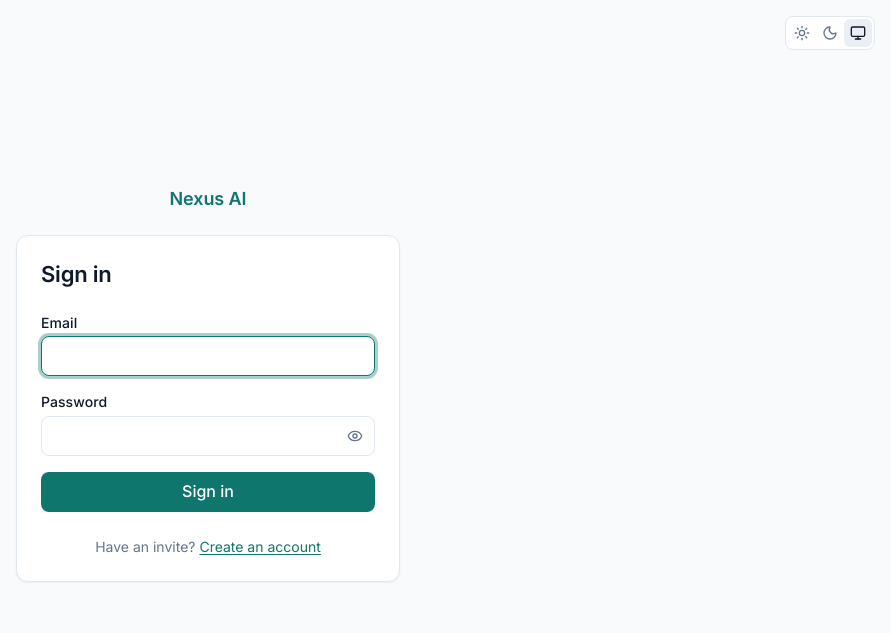
Test: login page › shows the error banner and lets the user retry
The width and height of the screenshot is (891, 633).
Type "marco@example.com" into the field labelled "Email" at (208, 356), box [41,336,375,376]
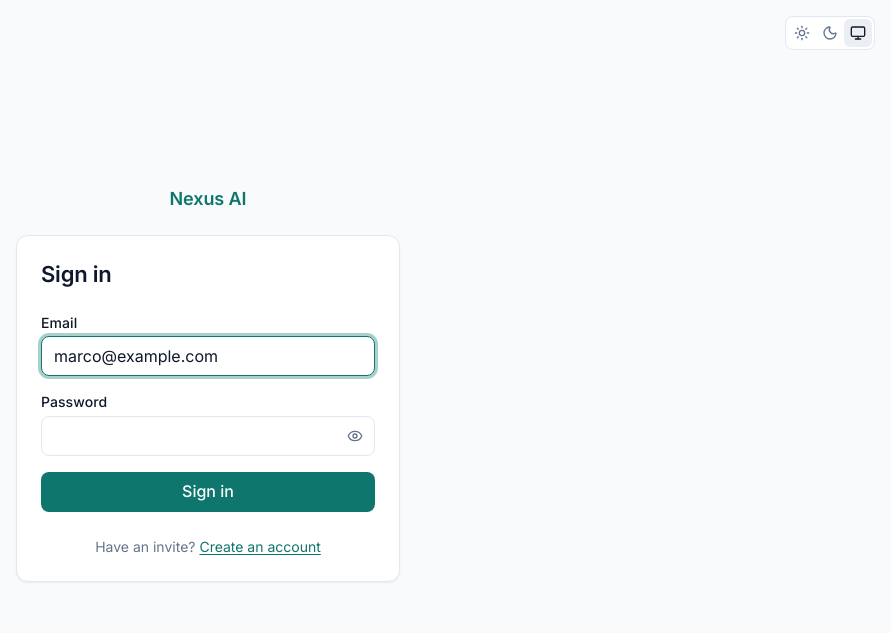
Type "wrong-password-1" into the password field labelled "Password" at (208, 436), box [41,416,375,456]
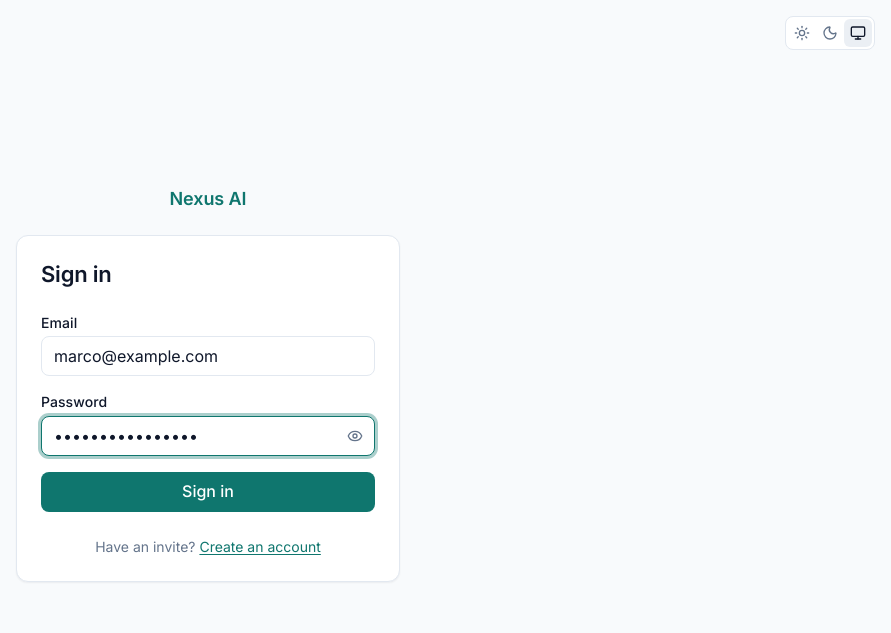
Click the button "Sign in" at (208, 492), box [41,472,375,512]
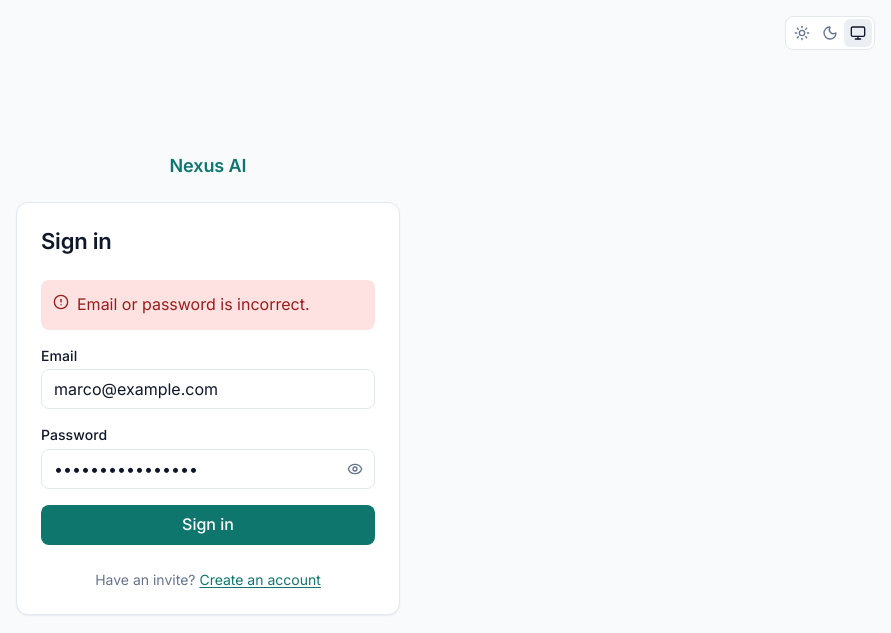
Expected: the button "Sign in" is enabled, [41,505,375,545]
Result: the message reads "Email or password is incorrect." at [77,294,310,314]
